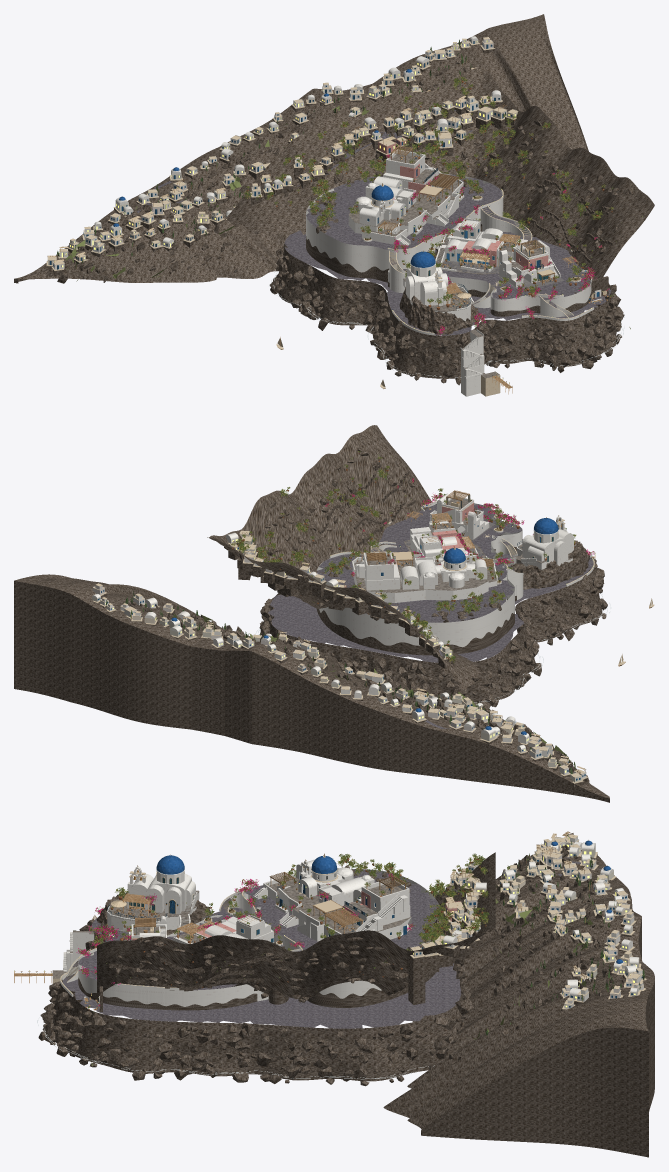
The model's file is santorini_v3_lite-DibisPYM.glb.
3 renders of one model, top to bottom at view 1: azimuth 30°, elevation 25°; view 2: azimuth 150°, elevation 25°; view 3: azimuth 270°, elevation 25°, orthographic. The views are drawn at different scales.
Visible parts, largest first — view 1: add_basalt, add_lime, Central basalt plaza, add_stone, bouga_wall.001 | landscape, b4_Brush limewash | chalk and exposed sand, East hillside switchback, Eastern wine terraces, 02 • Western stairs and vaulted houses, b4_flag, add_Aegean joinery, b3_Brush limewash | chalk and exposed sand (+9 smaller); view 2: add_basalt, add_lime, Central basalt plaza, add_stone, b4_Brush limewash | chalk and exposed sand, bouga_wall.001 | landscape, Eastern wine terraces, East hillside switchback, b4_flag, b3_Brush limewash | chalk and exposed sand, 02 • Western stairs and vaulted houses; view 3: add_basalt, add_lime, Central basalt plaza, add_stone, b4_Brush limewash | chalk and exposed sand, bouga_wall.001 | landscape, East hillside switchback, Eastern wine terraces, b4_flag, add_Sun bleached timber, 02 • Western stairs and vaulted houses, b4_Sun bleached timber (+5 smaller).
Boxes of the visible parts, x1,y1,x2,y2 form: add_basalt: (14, 14, 654, 385); add_lime: (53, 36, 601, 396); Central basalt plaza: (136, 105, 611, 335); add_stone: (46, 37, 593, 396); bouga_wall.001 | landscape: (244, 76, 602, 335); b4_Brush limewash | chalk and exposed sand: (348, 149, 464, 246); East hillside switchback: (49, 38, 515, 269); Eastern wine terraces: (47, 39, 517, 264); 02 • Western stairs and vaulted houses: (435, 218, 527, 271); b4_flag: (348, 153, 460, 236); add_Aegean joinery: (50, 40, 599, 302); b3_Brush limewash | chalk and exposed sand: (499, 240, 560, 287); add_basalt: (14, 425, 609, 802); add_lime: (92, 501, 594, 778); Central basalt plaza: (268, 504, 593, 762); add_stone: (93, 501, 654, 783); b4_Brush limewash | chalk and exposed sand: (352, 548, 497, 602); bouga_wall.001 | landscape: (235, 466, 595, 663); Eastern wine terraces: (92, 531, 581, 782); East hillside switchback: (92, 530, 575, 773); b4_flag: (354, 555, 496, 592); b3_Brush limewash | chalk and exposed sand: (429, 493, 489, 539); 02 • Western stairs and vaulted houses: (410, 520, 488, 558); add_basalt: (38, 833, 654, 1157); add_lime: (60, 836, 643, 1008); Central basalt plaza: (62, 857, 601, 1028); add_stone: (52, 834, 646, 1009); b4_Brush limewash | chalk and exposed sand: (253, 856, 411, 941); bouga_wall.001 | landscape: (76, 853, 489, 995); East hillside switchback: (152, 834, 644, 1035); Eastern wine terraces: (410, 836, 644, 996); b4_flag: (268, 877, 411, 933); add_Sun bleached timber: (14, 831, 643, 1036); 02 • Western stairs and vaulted houses: (173, 915, 274, 944); b4_Sun bleached timber: (269, 872, 406, 933).
Bounding box in the file's own units: 323 × 81.63 × 274.
Materials: 42 (19 with a texture image).
